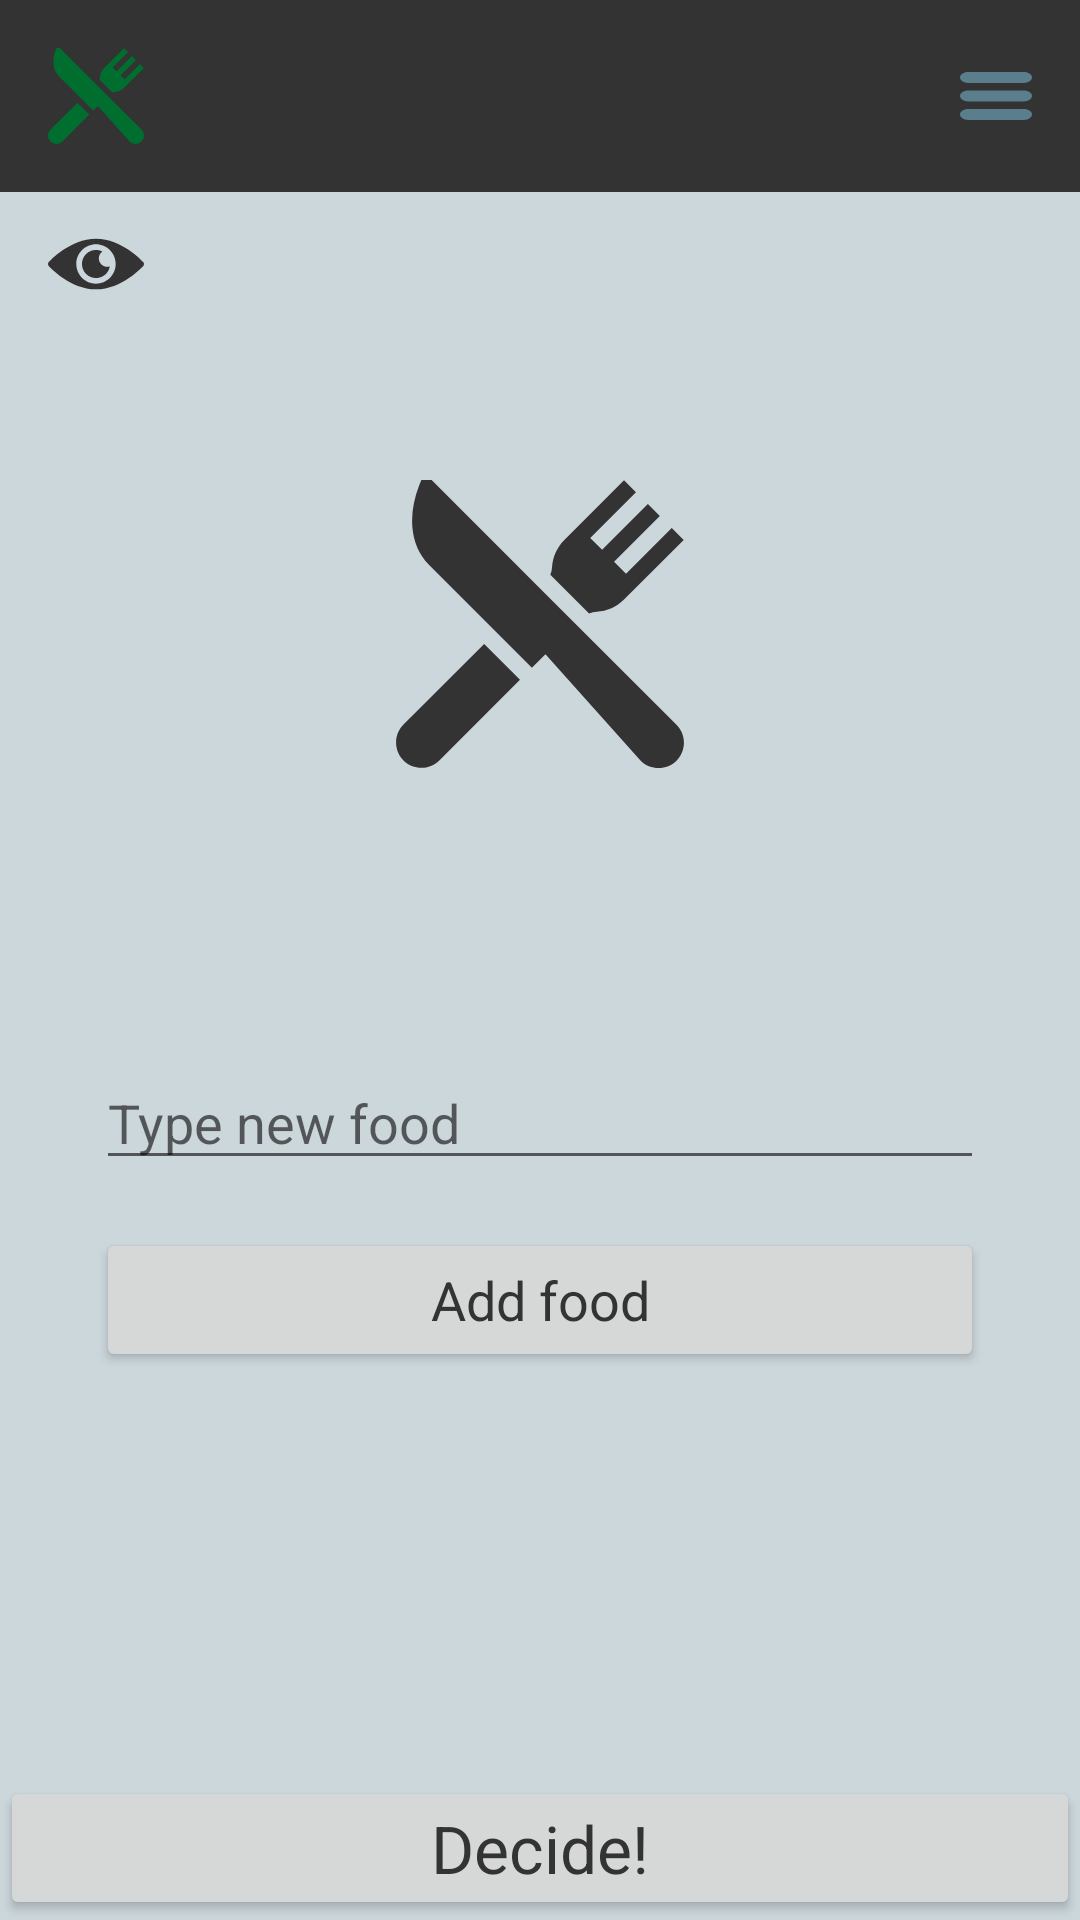

Icon bounding boxes for this 1080x1920 phone screenshot, format region(x1, y1, x2, y2):
eye: region(48, 238, 144, 290)
toggle menu: region(960, 72, 1032, 120)
